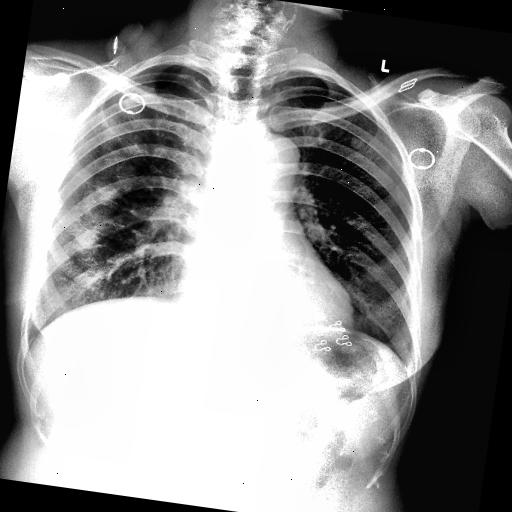0- Aortic enlargement: (244, 130, 301, 174)
7- Lung Opacity: (28, 76, 162, 324), (34, 84, 150, 316), (69, 78, 160, 286), (346, 136, 366, 152)
8- Nodule-Mass: (346, 136, 366, 152), (348, 136, 366, 151), (150, 146, 168, 160), (100, 114, 117, 128), (150, 146, 168, 159), (350, 138, 365, 150)
